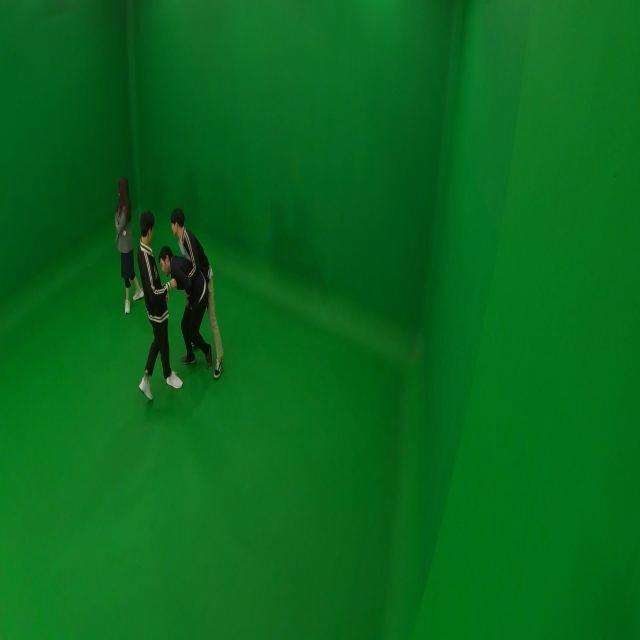fight: (157, 207, 225, 384)
non-fight: (131, 208, 183, 403), (111, 175, 146, 314)
